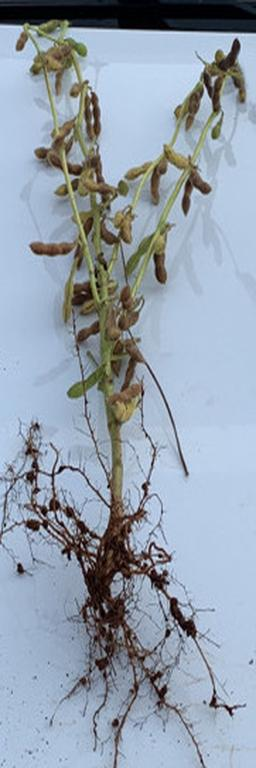pod: (67, 363, 101, 403), (30, 238, 73, 257), (90, 93, 106, 137), (75, 318, 99, 345), (154, 249, 169, 289), (124, 162, 153, 178), (53, 179, 78, 196), (149, 170, 159, 210), (122, 215, 135, 244), (53, 71, 65, 98), (15, 30, 27, 52)
soy: (17, 11, 249, 733)
